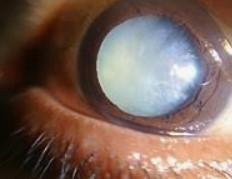eye: (81, 3, 232, 133)
